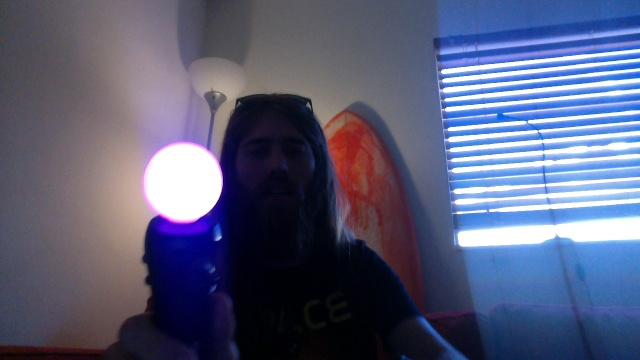wand: (144, 144, 223, 226)
